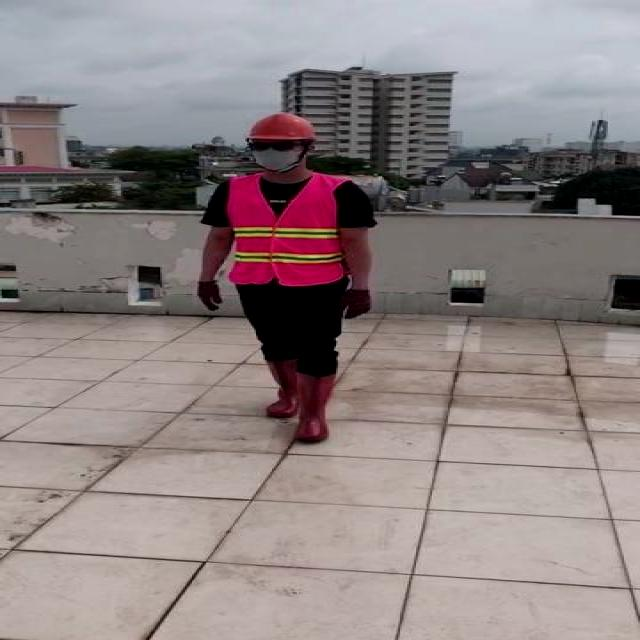boots: (293, 371, 338, 442), (263, 360, 299, 419)
face_mask: (249, 140, 304, 170)
glasses: (244, 138, 298, 154)
hand_glove: (338, 288, 372, 319), (198, 281, 222, 312)
head_helmet: (248, 111, 319, 144)
person: (186, 110, 387, 452)
vest: (231, 175, 347, 286)
